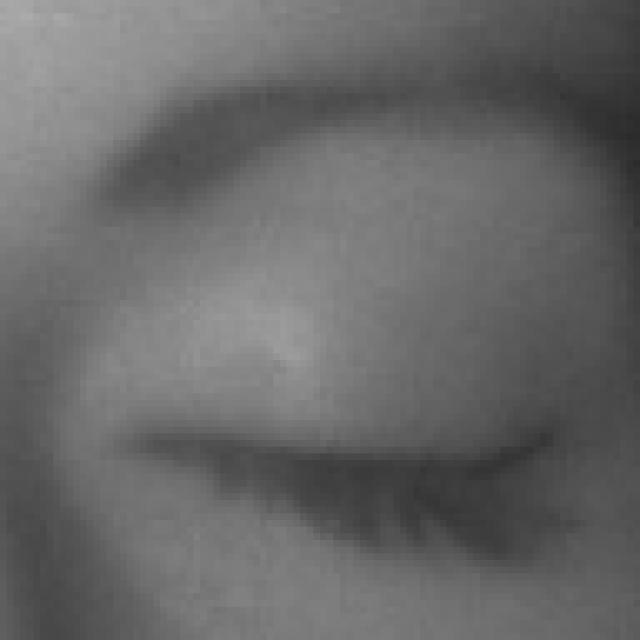Eyeclosed: (120, 253, 567, 640)
